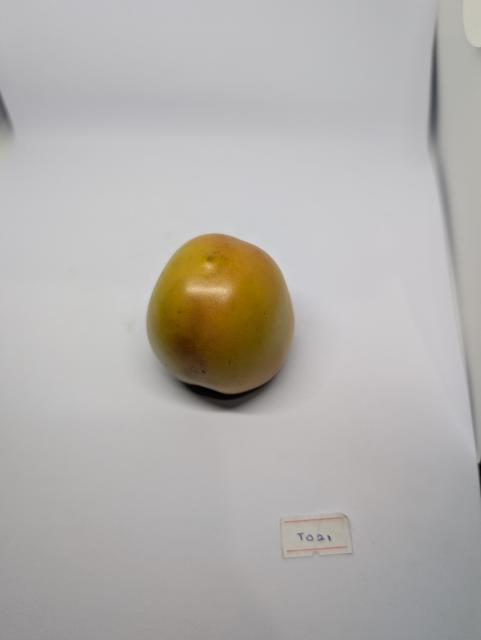turning: (137, 231, 304, 402)
